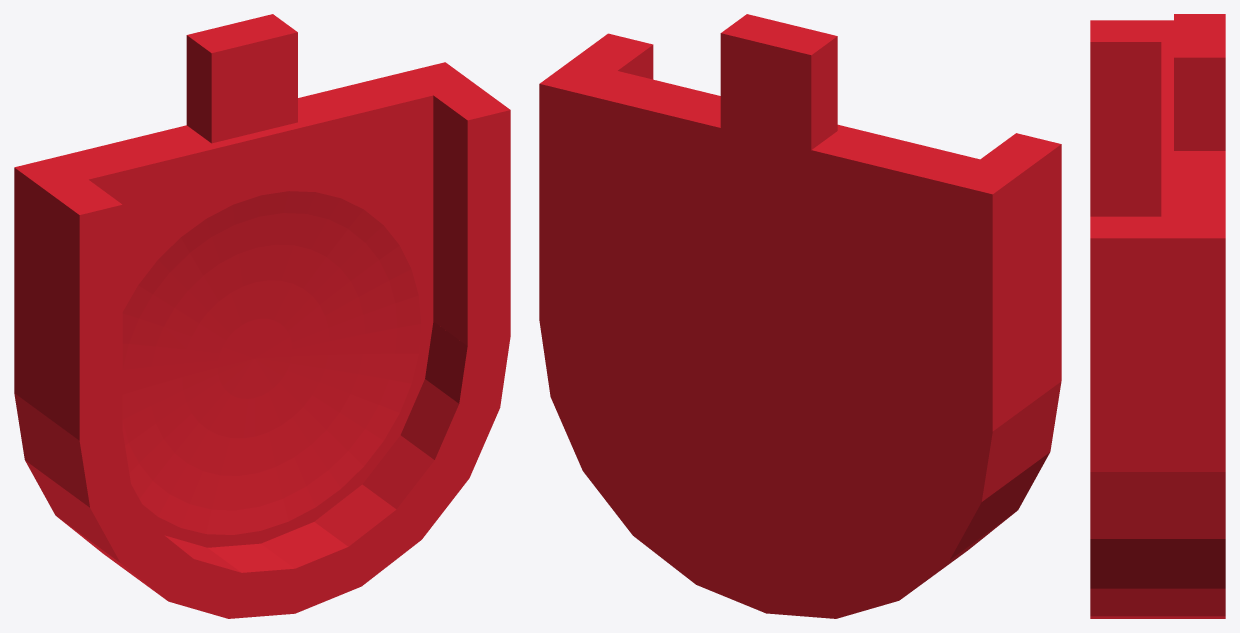
The model's file is ballCollector.obj.
The picture shows the model from 3 angles, left to right: view 1: azimuth 30°, elevation 25°; view 2: azimuth 150°, elevation 25°; view 3: azimuth 270°, elevation 25°; orthographic projection. The views are drawn at different scales.
Parts seen in each view (by area): view 1: obj_0; view 2: obj_0; view 3: obj_0.
Boxes of the visible parts, x1=… form: obj_0: x1=14, y1=14, x2=510, y2=618; obj_0: x1=539, y1=14, x2=1061, y2=618; obj_0: x1=1090, y1=14, x2=1225, y2=618.
Bounding box in the file's own units: 20 × 24 × 5.25.
